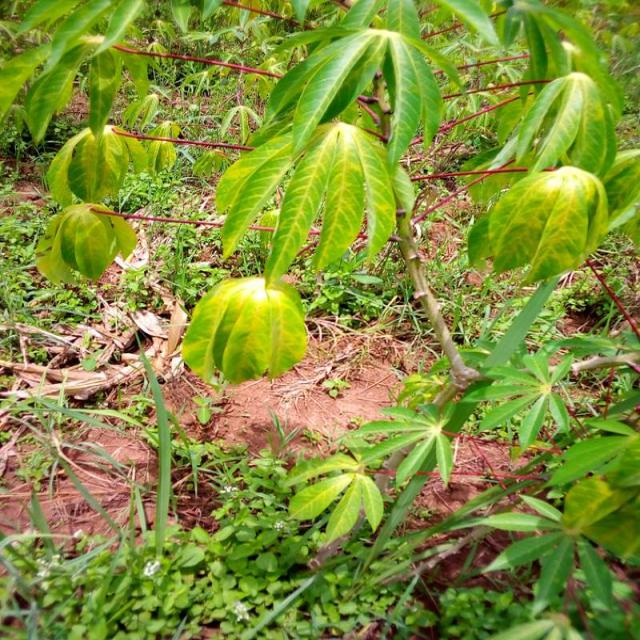cassava leaf: (263, 119, 396, 285), (466, 163, 608, 285), (180, 273, 308, 388), (34, 200, 136, 286)
